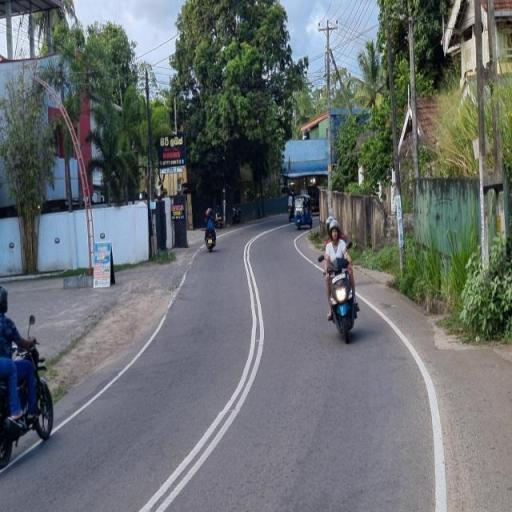double_white_line: (138, 230, 266, 511)
